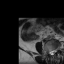CCS_normal: (51, 48, 53, 56)
LFS_normal: (55, 46, 58, 53)
LLS_normal: (53, 48, 55, 55)
RFS_normal: (47, 48, 49, 55)
RLS_normal: (49, 49, 51, 56)
